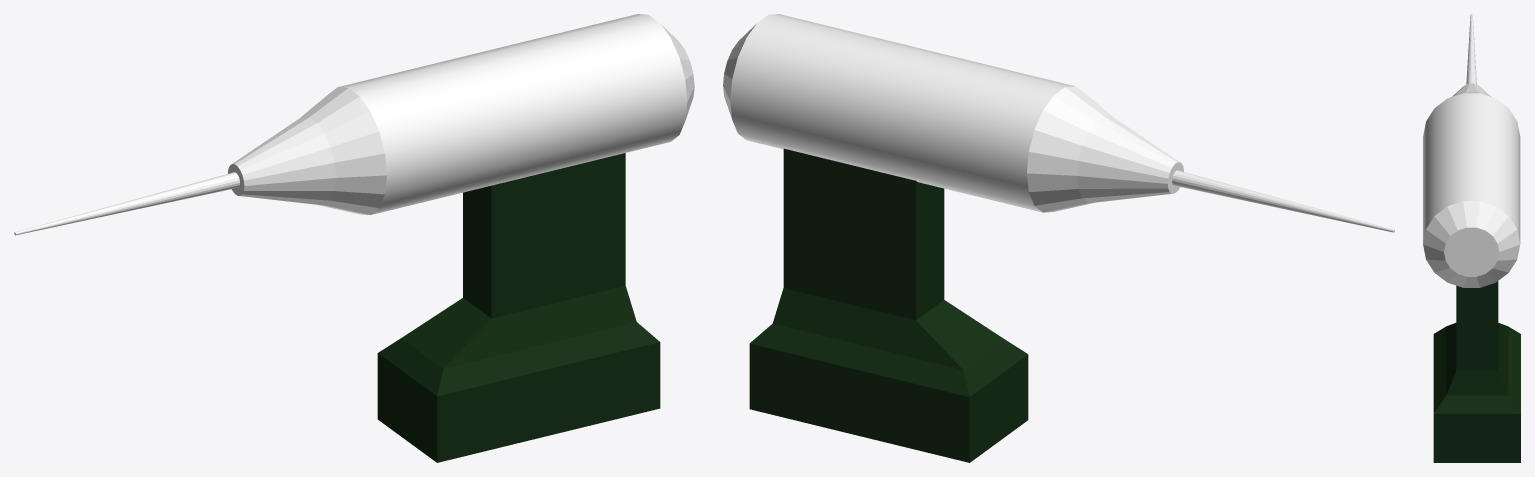
Rendered from wiertatka.FBX.
3 views of the same model, side by side, from view 1: azimuth 30°, elevation 25°; view 2: azimuth 150°, elevation 25°; view 3: azimuth 270°, elevation 25° (orthographic). The views are drawn at different scales.
Parts seen in each view (by area): view 1: Box001; view 2: Box001; view 3: Box001.
Boxes of the visible parts, x1,y1,x2,y2 form: Box001: (14,14,694,462); Box001: (723,14,1394,462); Box001: (1423,14,1520,462).
Size of the model in its own units: 131 by 69.24 by 22.83.
